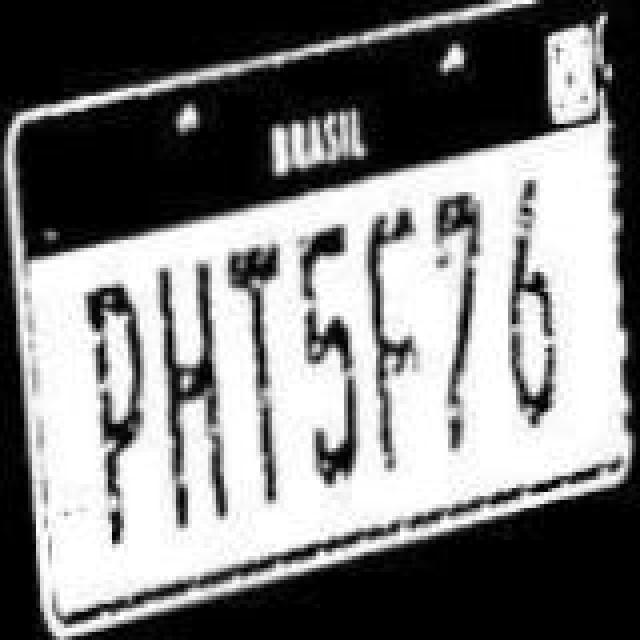5: (288, 228, 356, 504)
6: (500, 180, 568, 444)
7: (424, 186, 500, 462)
F: (360, 214, 420, 490)
H: (154, 258, 230, 542)
P: (82, 278, 150, 554)
T: (220, 244, 292, 516)
